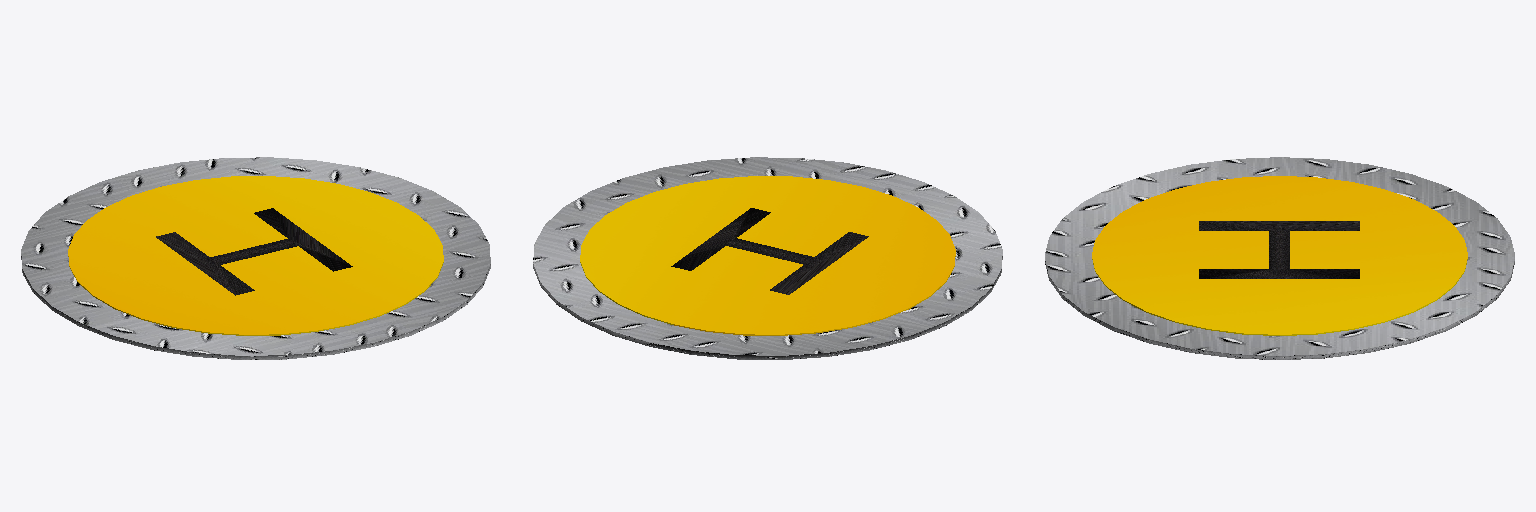
3 views of the same model, side by side, from view 1: azimuth 30°, elevation 25°; view 2: azimuth 150°, elevation 25°; view 3: azimuth 270°, elevation 25° (orthographic).
Visible parts, largest first — view 1: Cylinder.001, Cylinder, Text; view 2: Cylinder.001, Cylinder, Text; view 3: Cylinder.001, Cylinder, Text.
Part boxes in pixels (x1,y1,x2,y2): Cylinder.001: (68,176,443,335); Cylinder: (21,157,490,359); Text: (156,208,352,295); Cylinder.001: (580,176,955,335); Cylinder: (533,157,1002,359); Text: (671,208,868,294); Cylinder.001: (1092,176,1467,335); Cylinder: (1045,157,1514,359); Text: (1199,221,1359,278).
Bounding box in the file's own units: 2 × 0.0455 × 2.
3 materials, 3 textured.